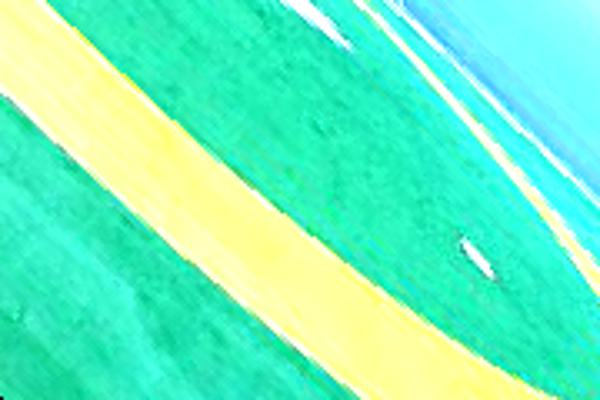Apron: (1, 1, 600, 400)
